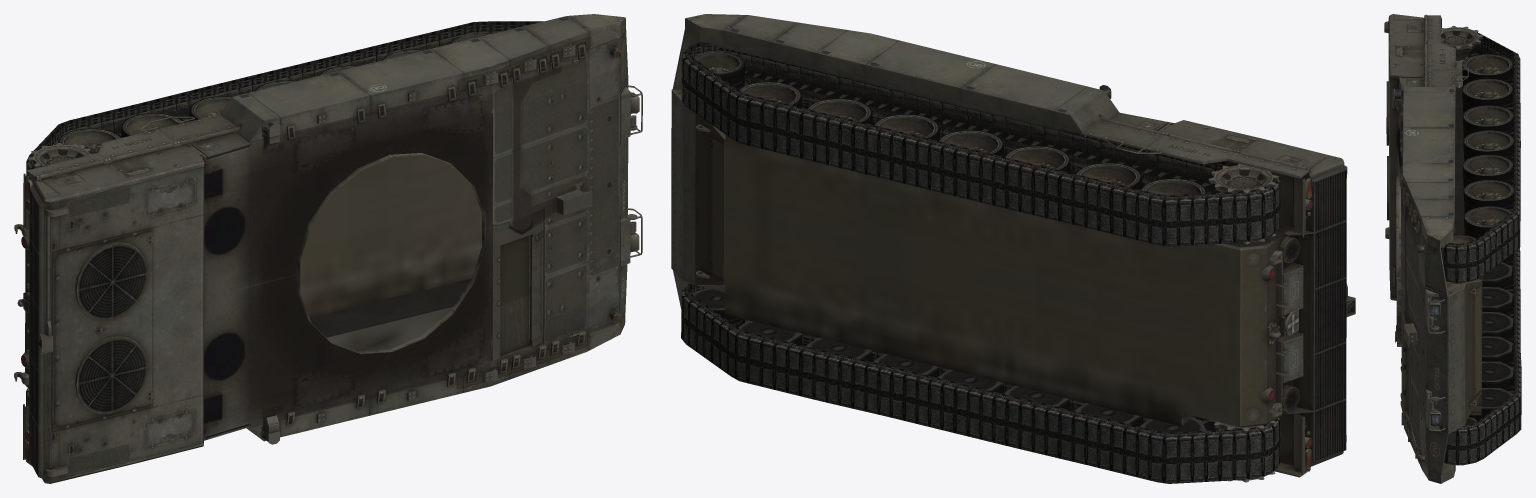
File: hull.gltf
3 renders of one model, left to right at view 1: azimuth 30°, elevation 25°; view 2: azimuth 150°, elevation 25°; view 3: azimuth 270°, elevation 25°, orthographic. The views are drawn at different scales.
Parts seen in each view (by area): view 1: hull; view 2: hull; view 3: hull.
Part boxes in pixels (left/top/right/bottom): hull: left=14, top=14, right=642, bottom=483; hull: left=671, top=14, right=1355, bottom=483; hull: left=1384, top=14, right=1521, bottom=483.
Size of the model in its own units: 7.67 by 3.75 by 1.84.
2 materials, 2 textured.
